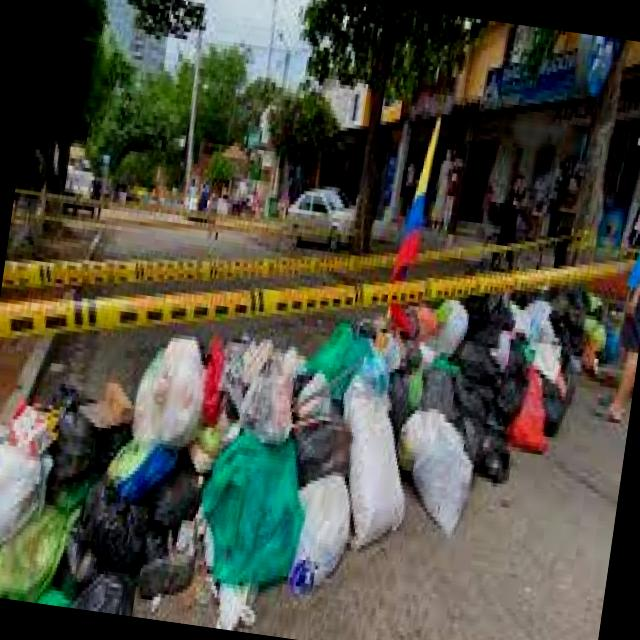garbage: (0, 209, 595, 640)
